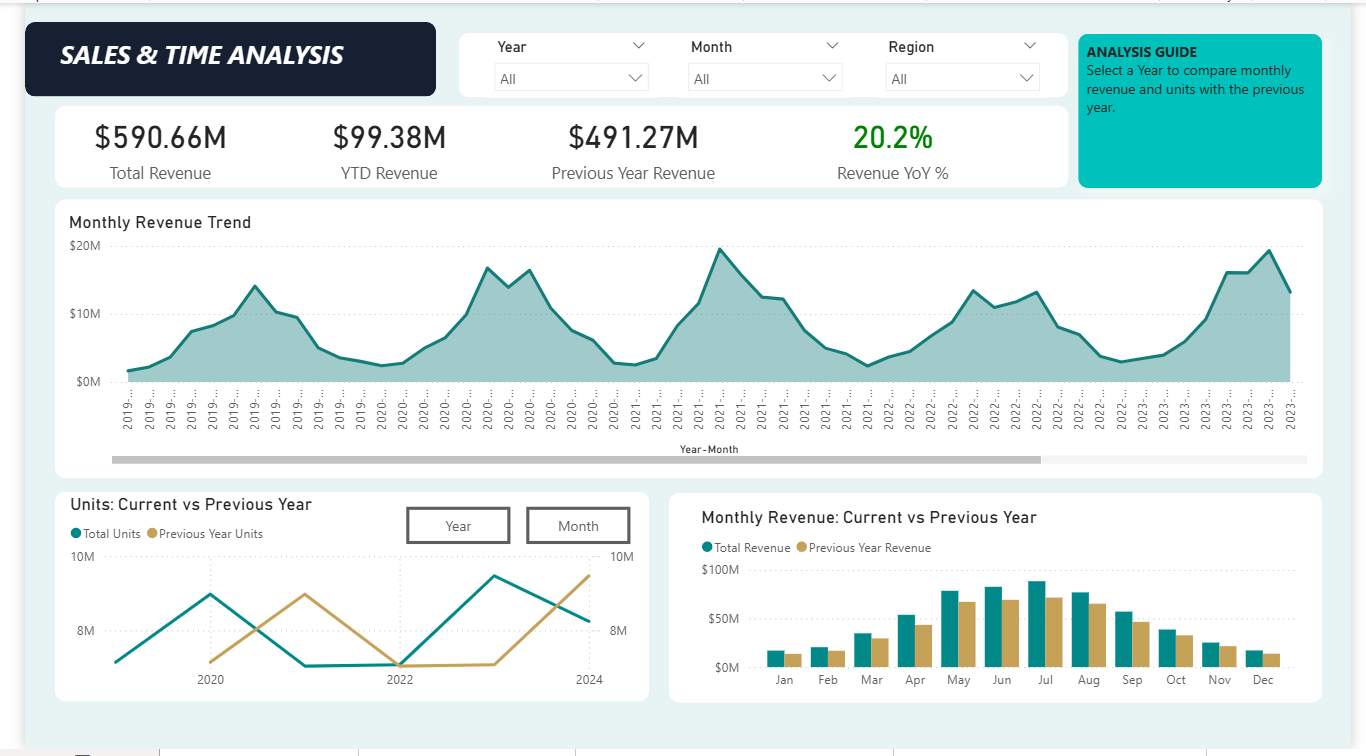

The page's visual inventory and layout, read from the dashboard file:
{"tool":"powerbi","page":{"name":"SALES & TIME ANALYSIS","canvas":[1280,720],"ordinal":1},"visuals":[{"type":"shape","box":[0,18.1,396.9,72.4],"z":0},{"type":"shape","box":[28.5,99.3,978.1,79.4],"z":2000},{"type":"shape","box":[28.5,189.9,1223.9,269.4],"z":3000},{"type":"shape","box":[621.9,472.9,630.6,202.3],"z":4000},{"type":"shape","box":[28.5,471.7,573.5,202.3],"z":5000},{"type":"card","fields":{"Values":["_Measures.Total Revenue"]},"box":[28.5,99.3,203.6,79.4],"z":7000},{"type":"textbox","box":[29,29,353.5,51.9],"z":8000},{"type":"card","fields":{"Values":["_Measures.YTD Revenue"]},"box":[239.6,99.3,223.4,79.4],"z":9000},{"type":"card","fields":{"Values":["_Measures.Previous Year Revenue"]},"box":[471.7,99.3,230.9,79.4],"z":10000},{"type":"card","fields":{"Values":["_Measures.Revenue YoY %"]},"box":[713.7,99.3,247,79.4],"z":11000},{"type":"clusteredColumnChart","title":"Monthly Revenue: Current vs Previous Year","fields":{"Category":["DimDate.Month Short"],"Y":["_Measures.Total Revenue","_Measures.Previous Year Revenue"]},"box":[648,486.6,585.9,185],"z":12000},{"type":"stackedAreaChart","title":"Monthly Revenue Trend","fields":{"Category":["DimDate.Year-Month"],"Y":["_Measures.Total Revenue"]},"box":[37.2,201.1,1205.3,248.3],"z":13000},{"type":"lineChart","title":"Units: Current vs Previous Year","fields":{"Y":["_Measures.Total Units"],"Y2":["_Measures.Previous Year Units"],"Category":["DimDate.Year"]},"box":[38.5,472.9,554.9,198.6],"z":14000},{"type":"actionButton","title":"Year","box":[367.4,486.6,100.5,36],"z":15000},{"type":"actionButton","title":"Month","box":[484.1,486.6,100.5,36],"z":16000},{"type":"shape","box":[418.3,28.5,588.4,62.1],"z":17000},{"type":"slicer","fields":{"Values":["DimDate.Year"]},"box":[443.1,28.5,168.8,62.1],"z":18000},{"type":"slicer","fields":{"Values":["DimDate.Month Short"]},"box":[629.3,28.5,168.8,62.1],"z":19000},{"type":"slicer","fields":{"Values":["DimRegion.Region"]},"box":[820.5,28.5,168.8,62.1],"z":20000},{"type":"textbox","box":[1015.4,28.5,237.1,150.2],"z":21000}]}

Visuals, with their boxes in screenshot pixels (x1, y1, x2, y2), scaled from the page's 1280x720 canvas onto the 1366x756 screenshot:
shape: 0:19:424:95
shape: 30:104:1074:188
shape: 30:199:1337:482
shape: 664:497:1337:709
shape: 30:495:642:708
card - _Measures.Total Revenue: 30:104:248:188
textbox: 31:30:408:85
card - _Measures.YTD Revenue: 256:104:494:188
card - _Measures.Previous Year Revenue: 503:104:750:188
card - _Measures.Revenue YoY %: 762:104:1025:188
"Monthly Revenue: Current vs Previous Year" clusteredColumnChart: 692:511:1317:705
"Monthly Revenue Trend" stackedAreaChart: 40:211:1326:472
"Units: Current vs Previous Year" lineChart: 41:497:633:705
"Year" actionButton: 392:511:499:549
"Month" actionButton: 517:511:624:549
shape: 446:30:1074:95
slicer - DimDate.Year: 473:30:653:95
slicer - DimDate.Month Short: 672:30:852:95
slicer - DimRegion.Region: 876:30:1056:95
textbox: 1084:30:1337:188
